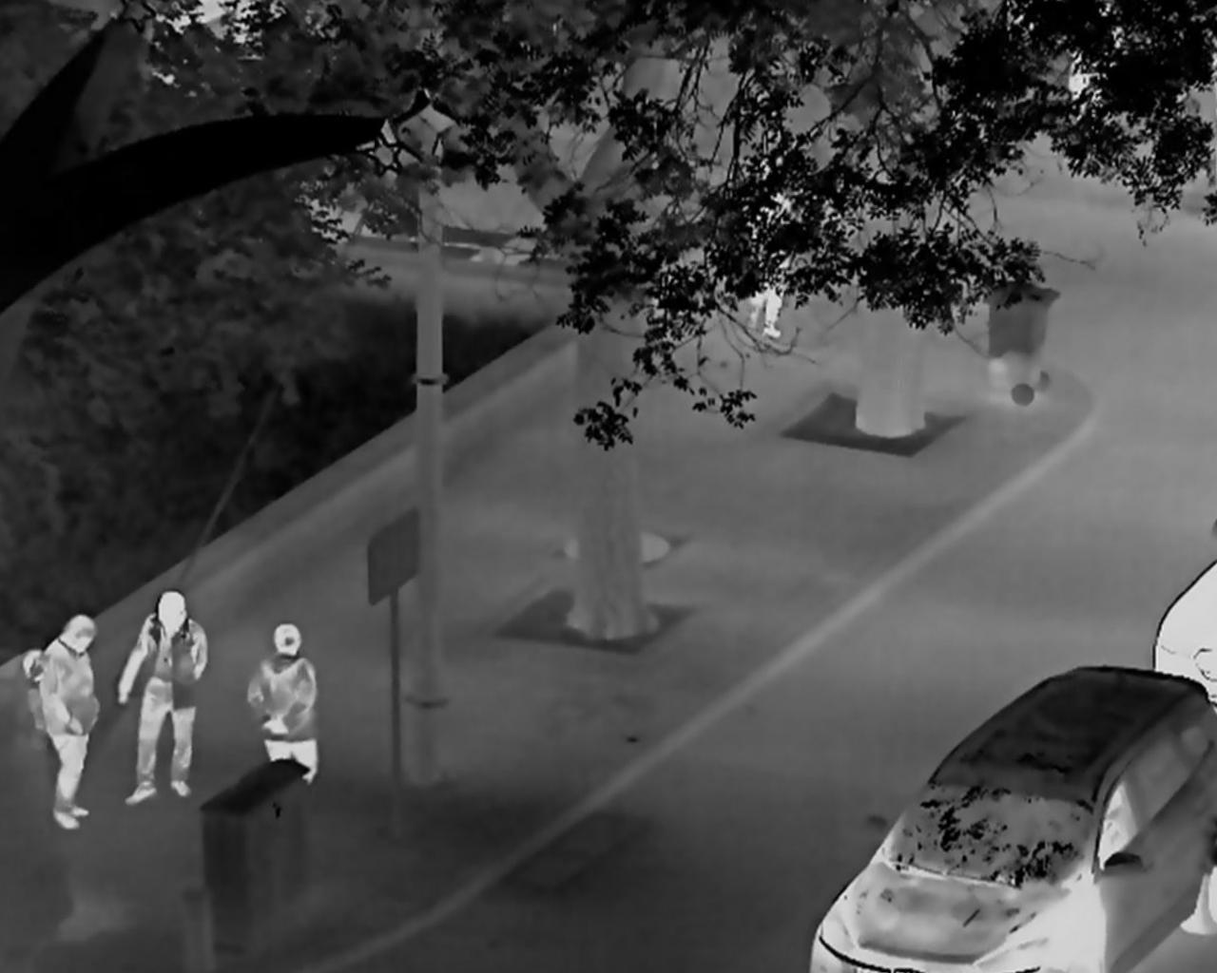person: (113, 590, 210, 809), (38, 614, 101, 832), (243, 621, 320, 787), (735, 157, 791, 341), (18, 648, 48, 740)
